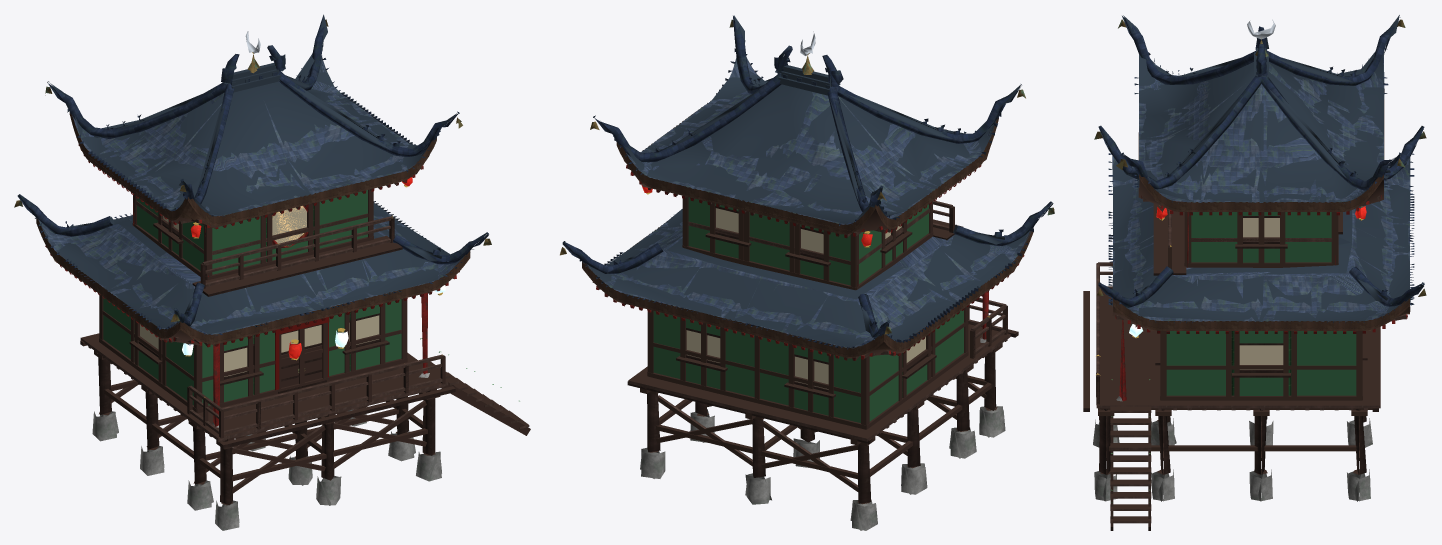
The model's file is guyue_bamboo_house.gltf.
3 views of the same model, side by side, from view 1: azimuth 30°, elevation 25°; view 2: azimuth 150°, elevation 25°; view 3: azimuth 270°, elevation 25° (orthographic). The views are drawn at different scales.
Visible parts, largest first — view 1: Far, Near; view 2: Far, Near; view 3: Far, Near.
Part boxes in pixels (x1=…): Far: x1=38, y1=15, x2=530, y2=524; Near: x1=14, y1=15, x2=529, y2=530; Far: x1=563, y1=15, x2=1051, y2=530; Near: x1=560, y1=15, x2=1054, y2=530; Far: x1=1083, y1=15, x2=1424, y2=521; Near: x1=1083, y1=15, x2=1426, y2=530.
Bounding box in the file's own units: 13.31 × 14.39 × 10.53.
Materials: 17 (12 with a texture image).
